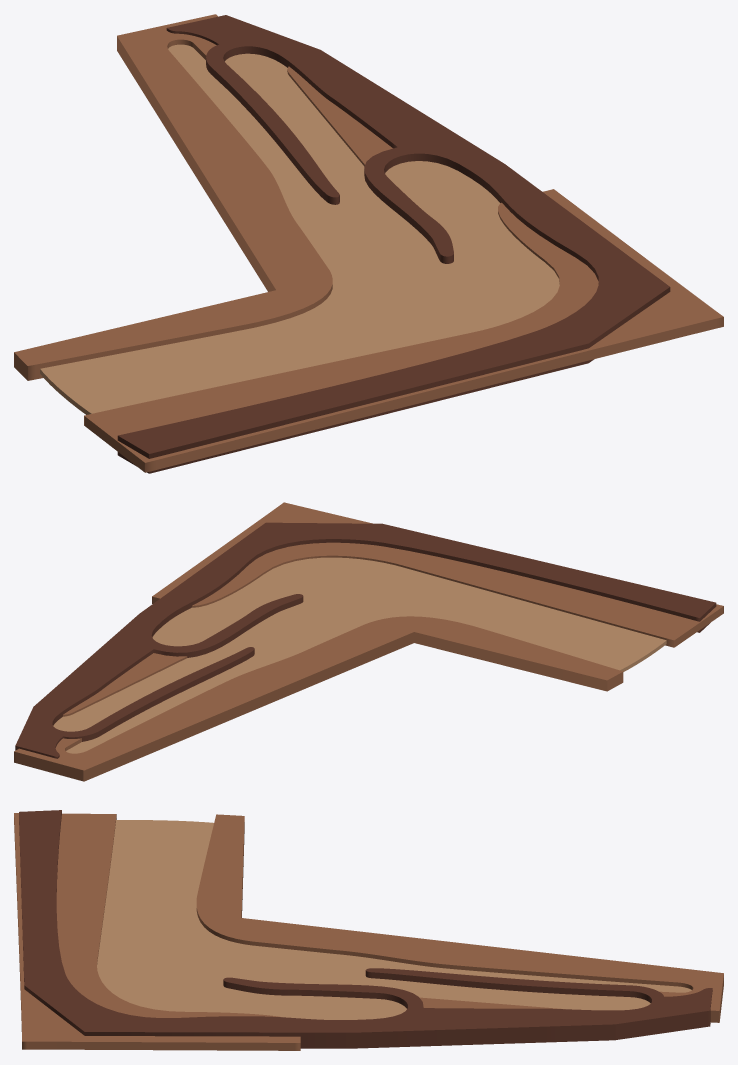
Rendered from emoji_u1faf8_1f3fd.glb.
3 views of the same model, one above another, from view 1: azimuth 30°, elevation 25°; view 2: azimuth 150°, elevation 25°; view 3: azimuth 270°, elevation 25° (orthographic). The views are drawn at different scales.
Parts seen in each view (by area): view 1: emoji_u1faf8_1f3fd; view 2: emoji_u1faf8_1f3fd; view 3: emoji_u1faf8_1f3fd.
Boxes of the visible parts, bbox=[...] form: emoji_u1faf8_1f3fd: bbox=[14, 14, 723, 473]; emoji_u1faf8_1f3fd: bbox=[14, 502, 723, 781]; emoji_u1faf8_1f3fd: bbox=[14, 810, 723, 1050].
Bounding box in the file's own units: 0.0248 × 0.0008 × 0.0324.
